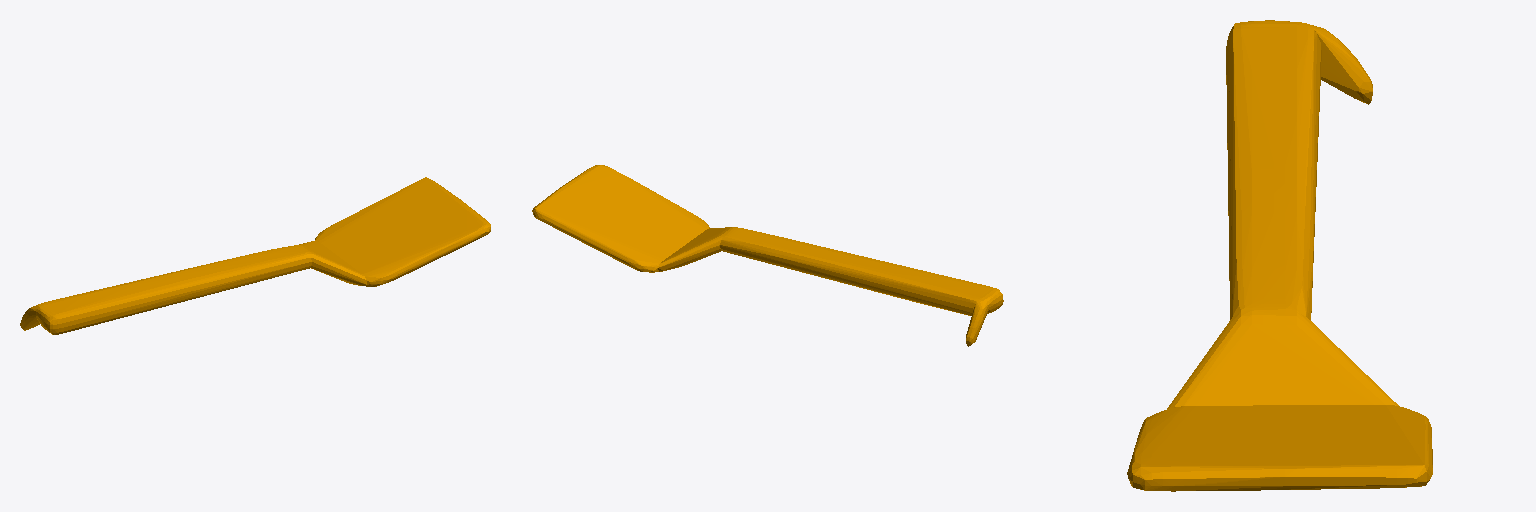
The robot description file, URDF, robot "spatula":
<?xml version="1.0"?>
<robot name="spatula">

  <link name="spatula">
    <visual>
      <origin xyz="0 0 0" rpy="0 0 0"/>
      <geometry>
        <mesh filename="spatula.obj" scale="1.0 1.0 1.0"/>
      </geometry>
    </visual>
    <!-- Original collision mesh -->
    <!--
    <collision>
      <origin xyz="0 0 0" rpy="0 0 0"/>
      <geometry>
        <mesh filename="spatula.obj" scale="1.0 1.0 1.0"/>
      </geometry>
    </collision>
    -->

    <!-- COACD collision meshes -->
    <collision>
      <geometry>
        <mesh filename="../../../tyler_objects_convex_decomp/black_spatula/decomp_0.obj" scale="1.0 1.0 1.0"/>
      </geometry>
    </collision>
    <collision>
      <geometry>
        <mesh filename="../../../tyler_objects_convex_decomp/black_spatula/decomp_1.obj" scale="1.0 1.0 1.0"/>
      </geometry>
    </collision>
    <collision>
      <geometry>
        <mesh filename="../../../tyler_objects_convex_decomp/black_spatula/decomp_2.obj" scale="1.0 1.0 1.0"/>
      </geometry>
    </collision>
    <collision>
      <geometry>
        <mesh filename="../../../tyler_objects_convex_decomp/black_spatula/decomp_3.obj" scale="1.0 1.0 1.0"/>
      </geometry>
    </collision>
    <collision>
      <geometry>
        <mesh filename="../../../tyler_objects_convex_decomp/black_spatula/decomp_4.obj" scale="1.0 1.0 1.0"/>
      </geometry>
    </collision>
    <inertial>
      <density value="400"/>
    </inertial>
  </link>

</robot>

--- What the picture shows (computed from the rendered views, not written in the file) ---
3 views of the same robot in one strip: view 1: azimuth 30°, elevation 25°; view 2: azimuth 150°, elevation 25°; view 3: azimuth 270°, elevation 25° (orthographic).
Robot: spatula — 1 links, 0 joints (none); root link spatula; default pose: all joints at 0.
Visible links, largest first — view 1: spatula; view 2: spatula; view 3: spatula.
Link boxes in pixels (left/top/right/bottom): spatula: left=20, top=177, right=490, bottom=334; spatula: left=532, top=165, right=1003, bottom=346; spatula: left=1127, top=20, right=1432, bottom=491.
Bounding box of the posed robot: 0.3522 × 0.0959 × 0.035 m (x, y, z).
1 mesh visuals loaded from 1 distinct referenced files (1 OBJ).
